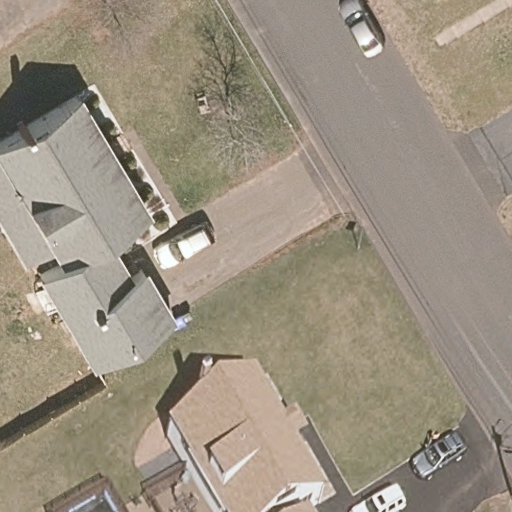DT: (346, 219, 364, 250)
